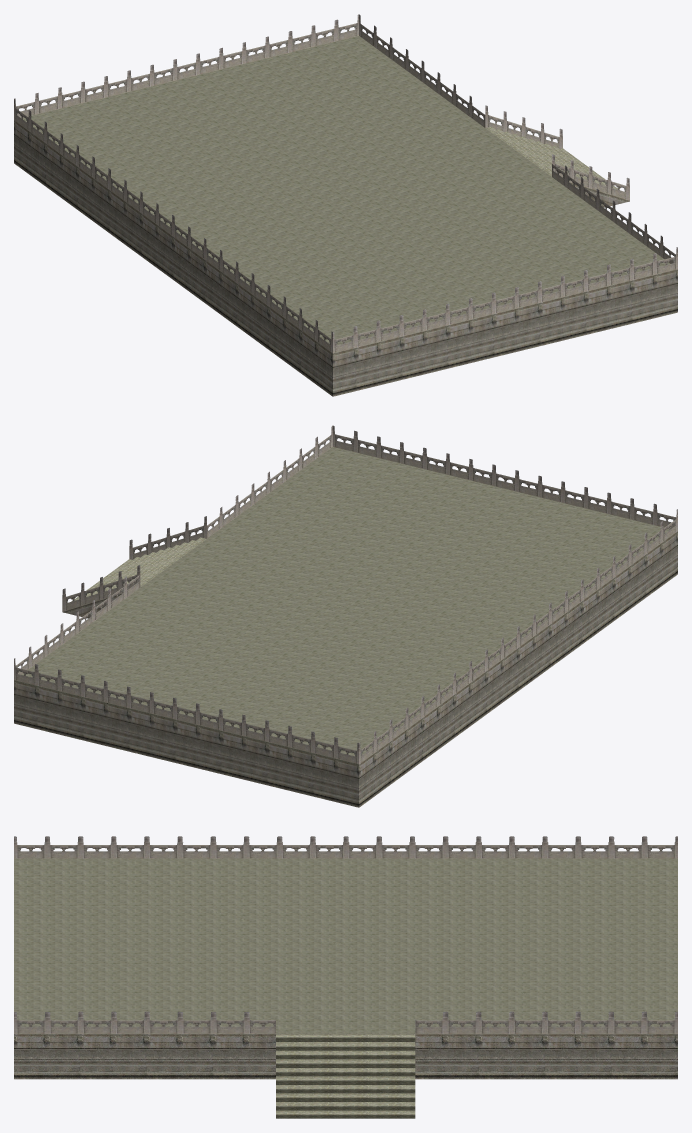
File: cj_pal_side_dan.glb
3 views of the same model, one above another, from view 1: azimuth 30°, elevation 25°; view 2: azimuth 150°, elevation 25°; view 3: azimuth 270°, elevation 25° (orthographic). The views are drawn at different scales.
Visible parts, largest first — view 1: CJ_pal_side_dan_floor01, CJ_pal_side_dan_wall, CJ_pal_side_dan_fence, CJ_pal_side_dan_floor02; view 2: CJ_pal_side_dan_floor01, CJ_pal_side_dan_wall, CJ_pal_side_dan_fence, CJ_pal_side_dan_floor02; view 3: CJ_pal_side_dan_floor01, CJ_pal_side_dan_wall, CJ_pal_side_dan_fence, CJ_pal_side_dan_floor02.
Boxes of the visible parts, x1=… form: CJ_pal_side_dan_floor01: x1=22, y1=36, x2=670, y2=345; CJ_pal_side_dan_wall: x1=14, y1=120, x2=677, y2=396; CJ_pal_side_dan_fence: x1=14, y1=14, x2=677, y2=353; CJ_pal_side_dan_floor02: x1=485, y1=126, x2=617, y2=189; CJ_pal_side_dan_floor01: x1=14, y1=447, x2=669, y2=765; CJ_pal_side_dan_wall: x1=14, y1=531, x2=677, y2=807; CJ_pal_side_dan_fence: x1=14, y1=425, x2=677, y2=764; CJ_pal_side_dan_floor02: x1=71, y1=537, x2=206, y2=601; CJ_pal_side_dan_floor01: x1=14, y1=858, x2=677, y2=1033; CJ_pal_side_dan_wall: x1=14, y1=1034, x2=677, y2=1079; CJ_pal_side_dan_fence: x1=14, y1=836, x2=677, y2=1034; CJ_pal_side_dan_floor02: x1=276, y1=1034, x2=415, y2=1118.
Size of the model in its own units: 30.63 by 4.59 by 40.
4 materials, 4 textured.
